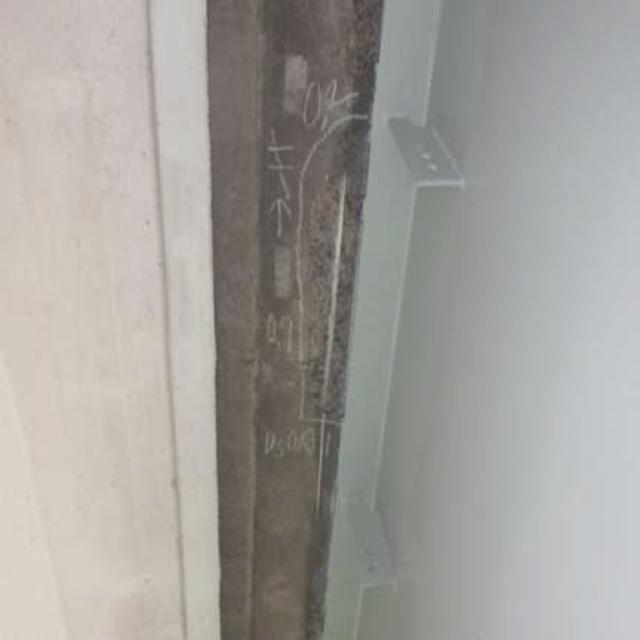spalling: (288, 148, 372, 416)
